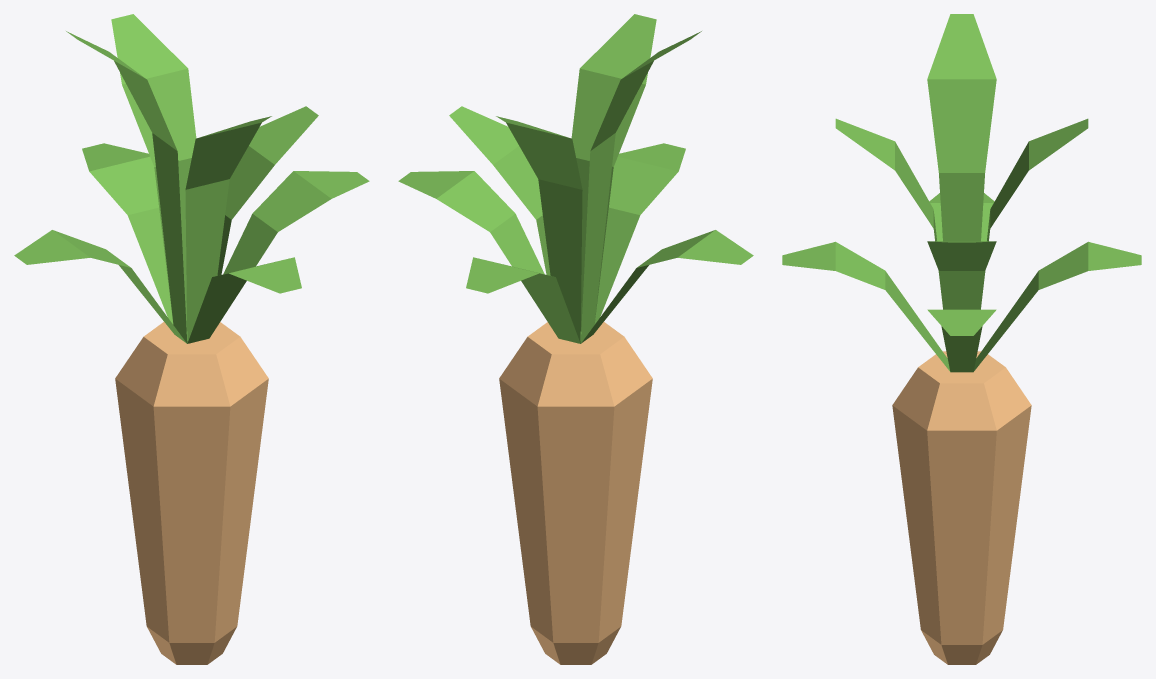
Rendered from crop_carrot.glb.
3 views of the same model, side by side, from view 1: azimuth 30°, elevation 25°; view 2: azimuth 150°, elevation 25°; view 3: azimuth 270°, elevation 25° (orthographic). The views are drawn at different scales.
Parts seen in each view (by area): view 1: crop_carrot; view 2: crop_carrot; view 3: crop_carrot.
Part boxes in pixels (left/top/right/bottom): crop_carrot: left=14, top=14, right=369, bottom=664; crop_carrot: left=398, top=14, right=753, bottom=664; crop_carrot: left=782, top=14, right=1141, bottom=664.
Size of the model in its own units: 0.3431 by 0.6194 by 0.3431.
